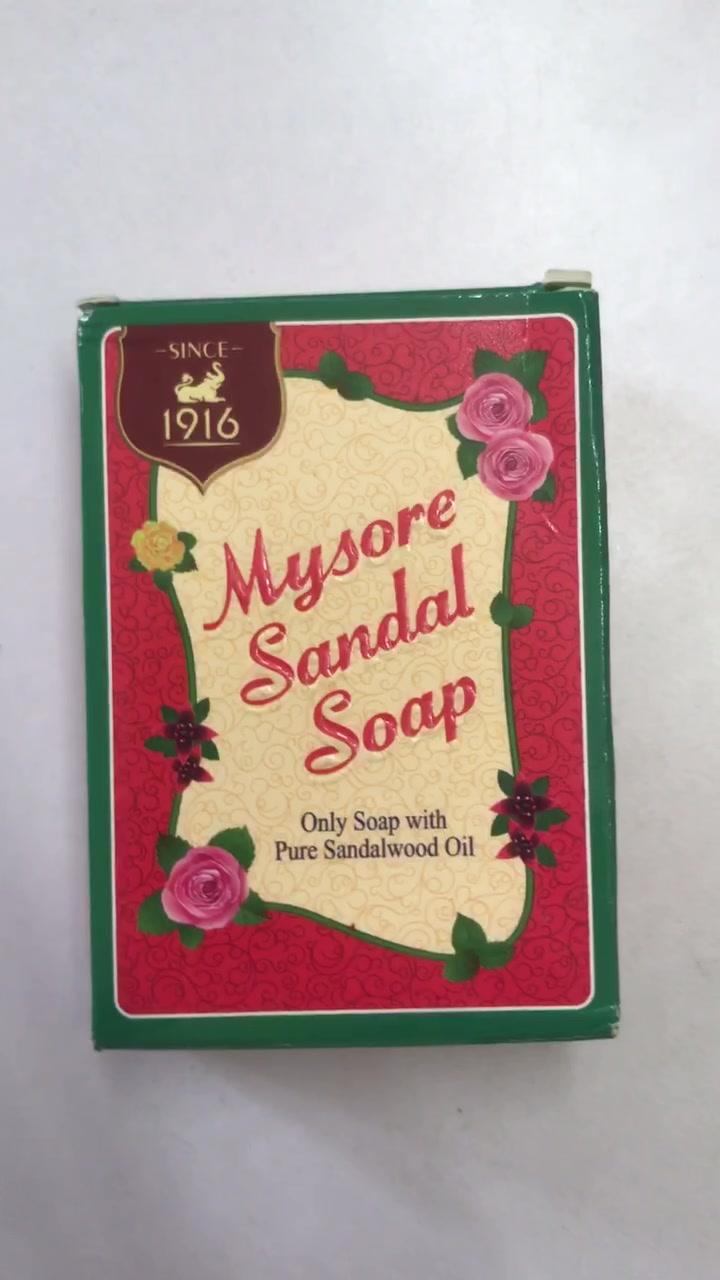mysore sandal soap: (80, 292, 614, 1046)
